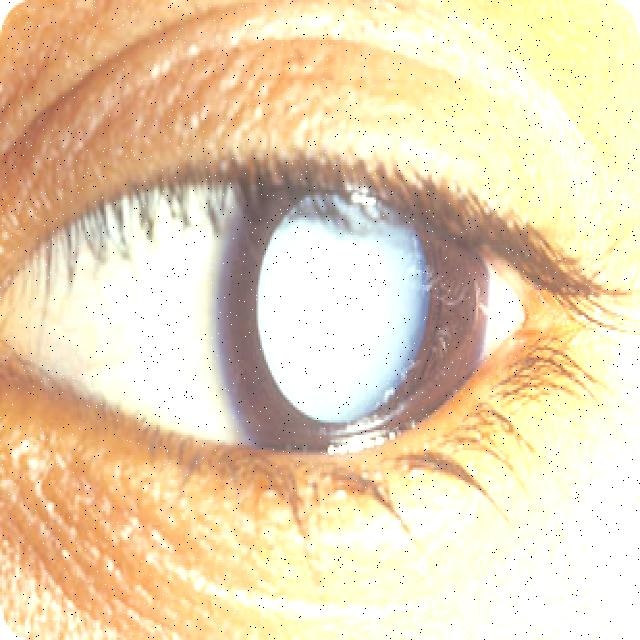Cataract: (21, 92, 592, 531)
